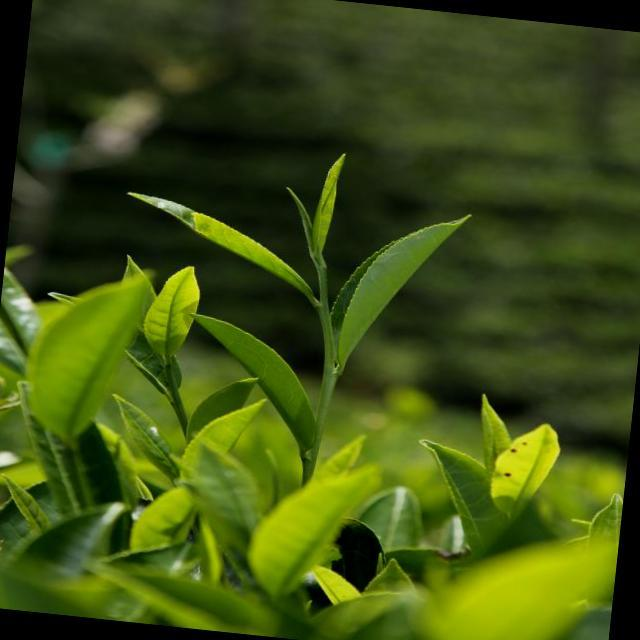Stem: (319, 301, 329, 318), (174, 401, 183, 412)
